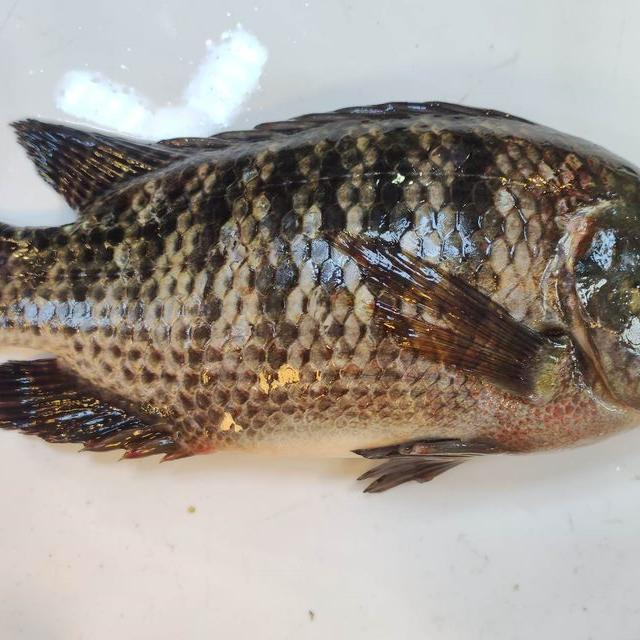fish: (0, 87, 640, 494)
